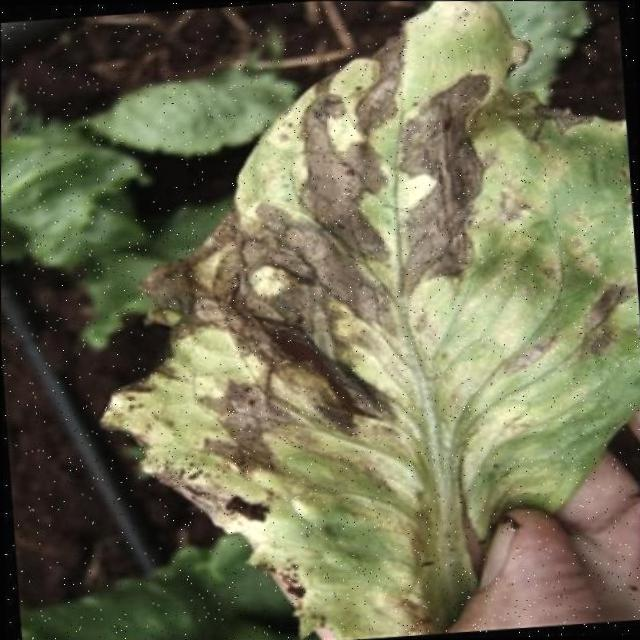Healthy: (212, 185, 498, 457)
